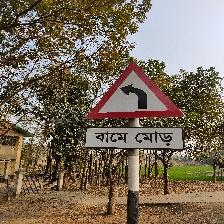Left-Turn: (83, 61, 187, 151)
